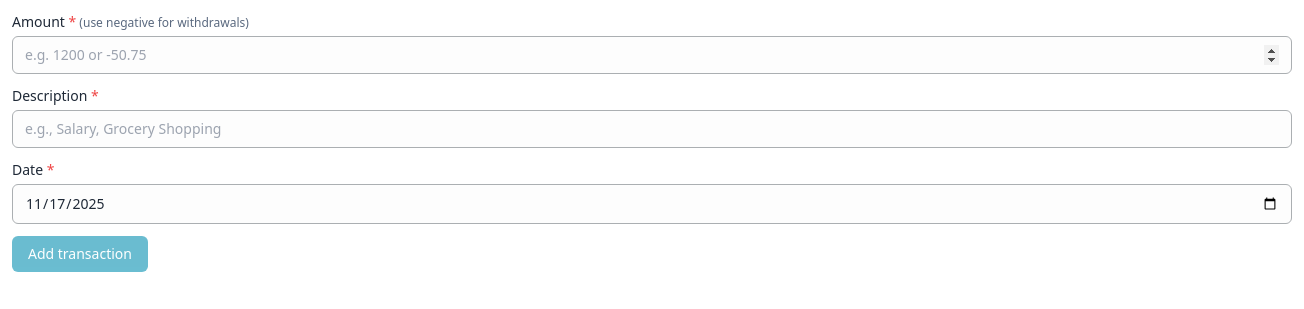
TransactionForm › prevents overdraft when currentBalance is provided
Type "-150" into the number field with placeholder "e.g. 1200 or -50.75" at (652, 55), box [12,36,1292,74]
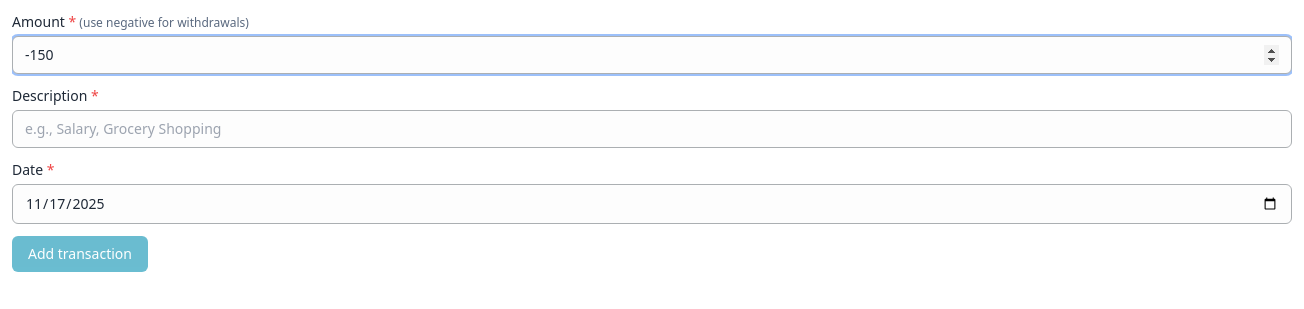
Type "Huge withdrawal" into the field with placeholder "e.g., Salary, Grocery Shopping" at (652, 129), box [12,110,1292,148]
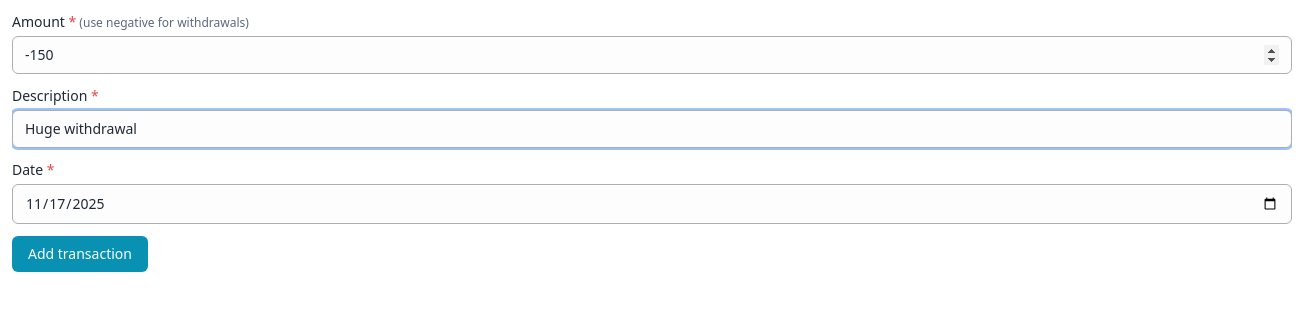
Type "2024-02-01" into the date field labelled "Date *" at (652, 204), box [12,184,1292,224]
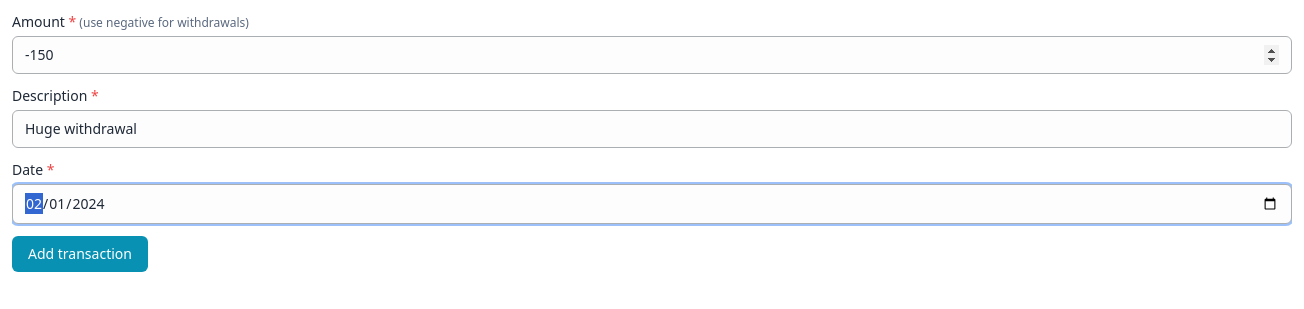
Click the button "Add transaction" at (80, 254), box [12,236,148,272]
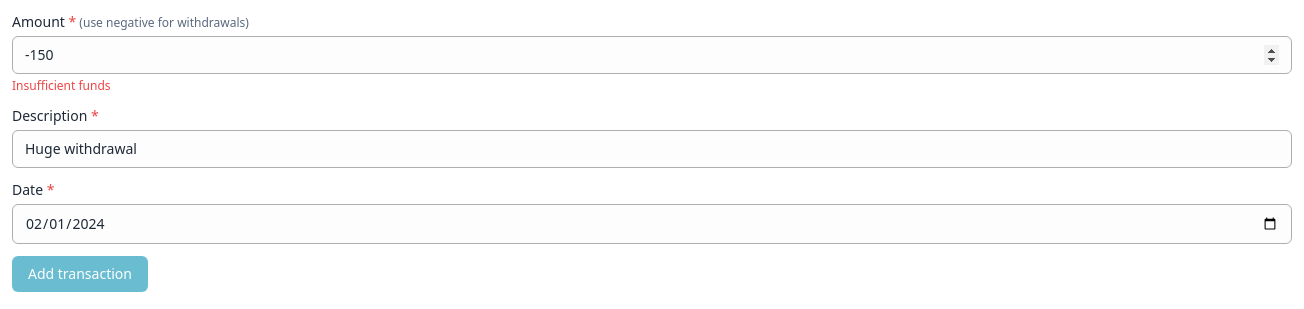
Result: the text "Insufficient funds" is shown at [12,77,111,94]
